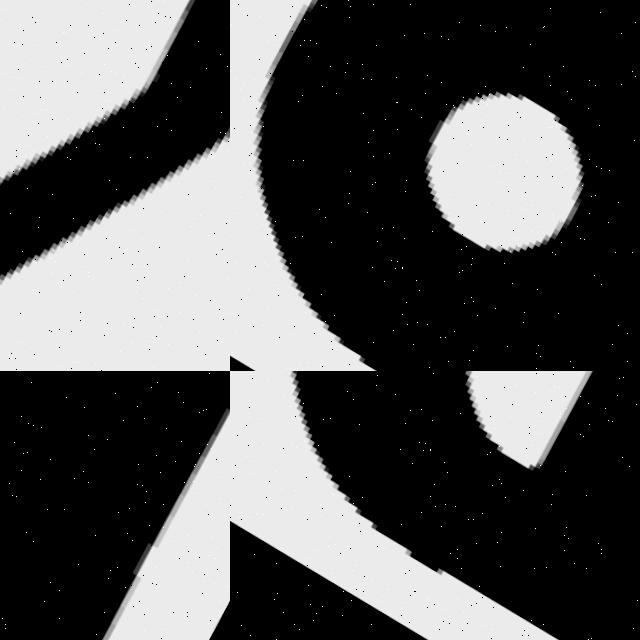D: (230, 371, 640, 640)
M: (0, 371, 230, 640)
O: (230, 0, 640, 371)
V: (0, 0, 230, 371)
